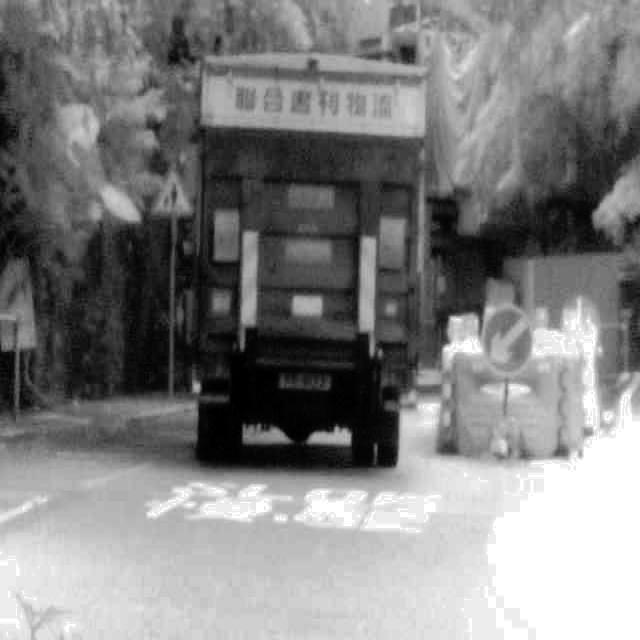Truck: (193, 49, 429, 467)
